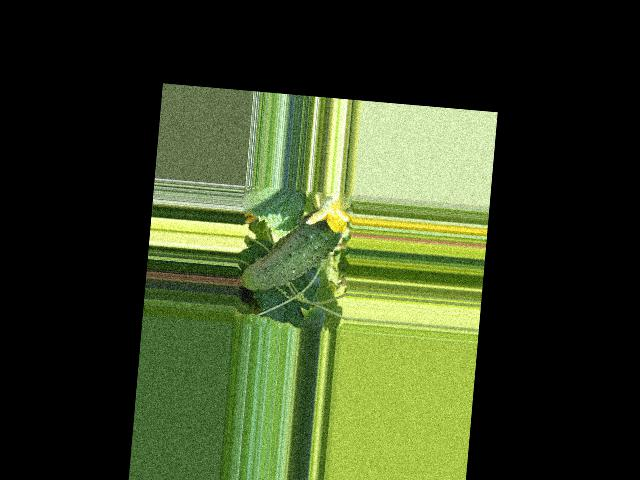cucumber: (234, 202, 344, 298)
